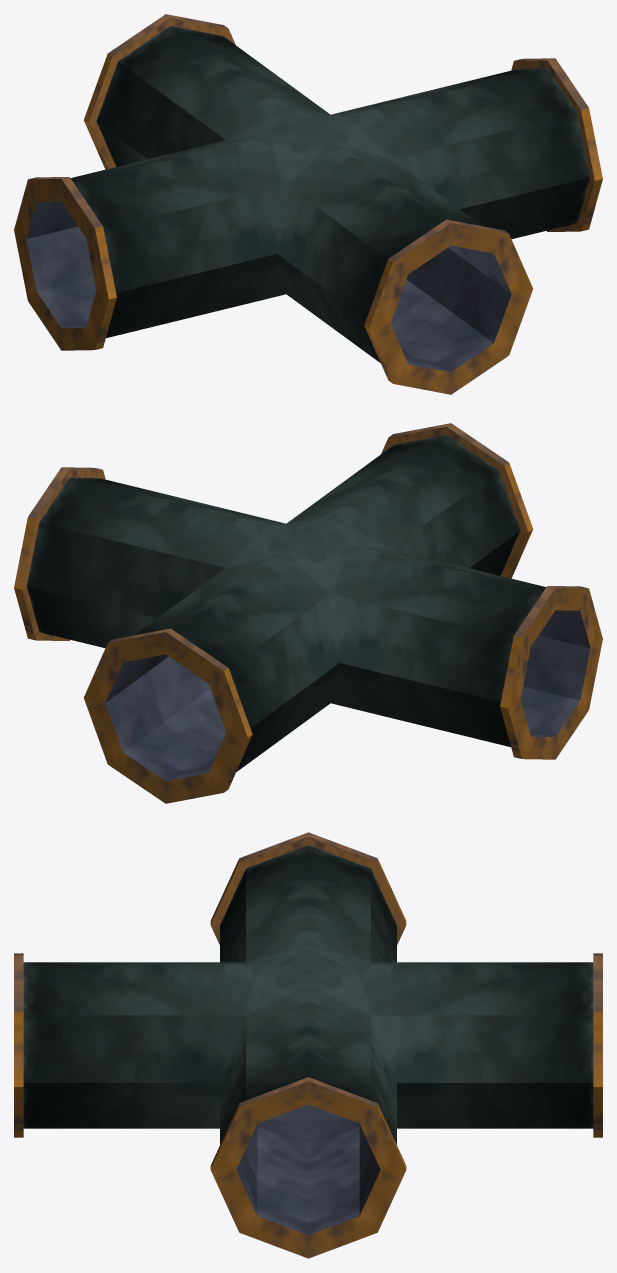
File: LargePipeCrossroads_SM.fbx
3 renders of one model, top to bottom at view 1: azimuth 30°, elevation 25°; view 2: azimuth 150°, elevation 25°; view 3: azimuth 270°, elevation 25°, orthographic. The views are drawn at different scales.
Visible parts, largest first — view 1: Cylinder007; view 2: Cylinder007; view 3: Cylinder007.
Part boxes in pixels (x1,y1,x2,y2): Cylinder007: (14,14,602,394); Cylinder007: (14,423,602,803); Cylinder007: (14,832,602,1258).
Size of the model in its own units: 200 by 66.49 by 200.
1 material, 1 textured.
